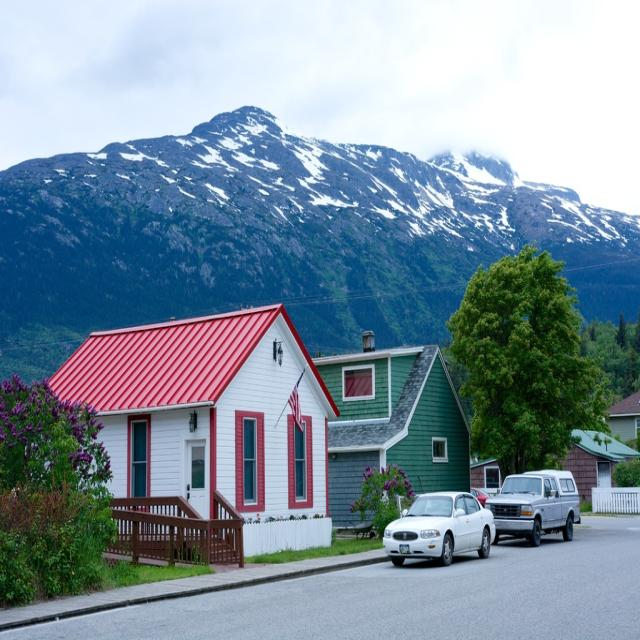car: (383, 492, 495, 565)
